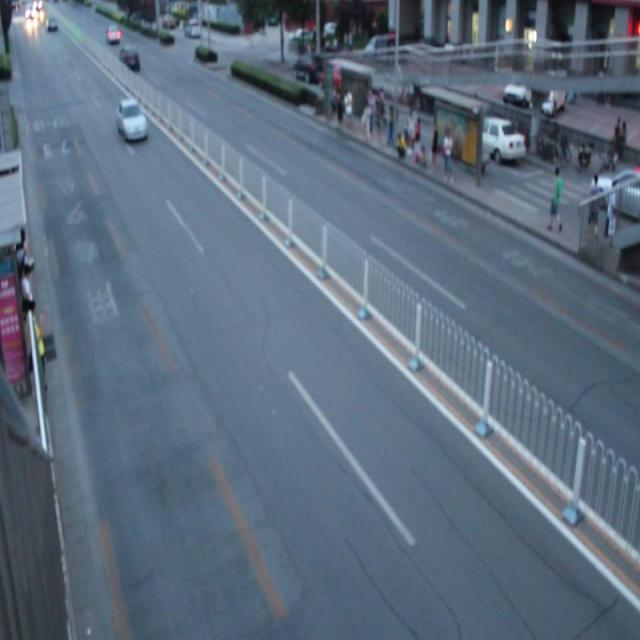car: (117, 100, 148, 144)
